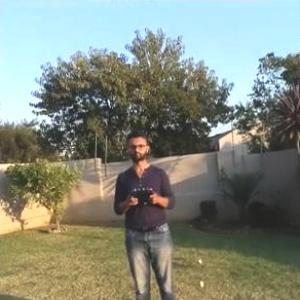follow: (107, 120, 184, 299)
